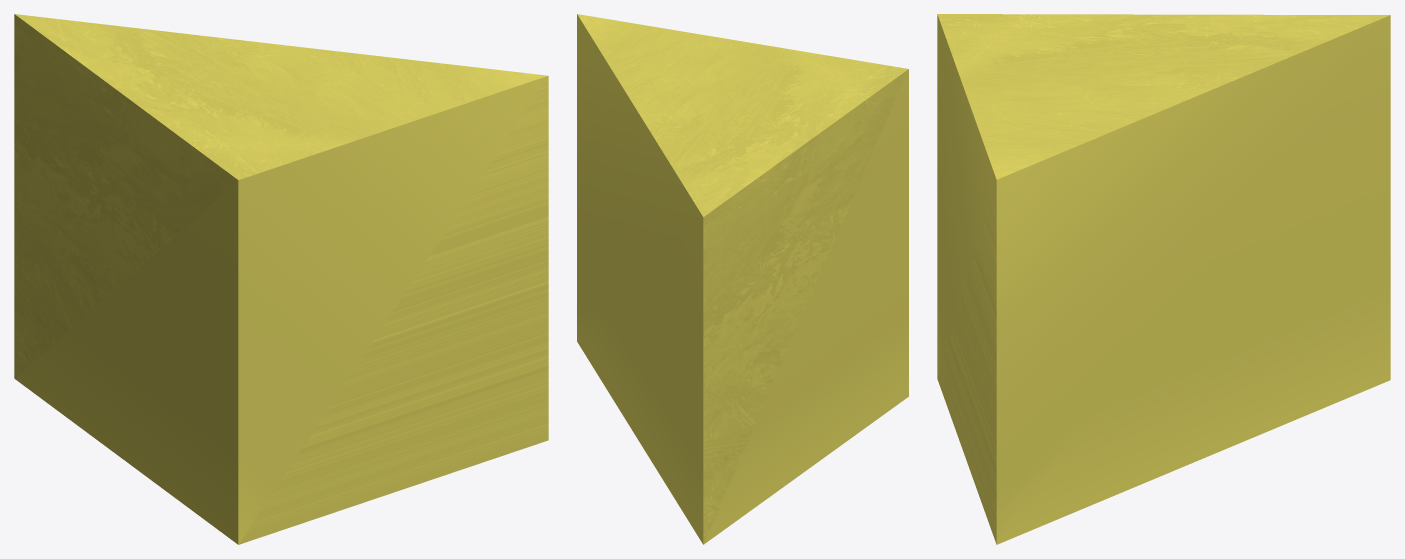
File: jaune6.FBX
The picture shows the model from 3 angles, left to right: view 1: azimuth 30°, elevation 25°; view 2: azimuth 150°, elevation 25°; view 3: azimuth 270°, elevation 25°; orthographic projection. The views are drawn at different scales.
Parts seen in each view (by area): view 1: Ligne030; view 2: Ligne030; view 3: Ligne030.
Part boxes in pixels (x1,y1,x2,y2): Ligne030: [14, 14, 548, 544]; Ligne030: [577, 14, 908, 544]; Ligne030: [937, 14, 1390, 544].
Bounding box in the file's own units: 3.78 × 3.88 × 4.37.
1 material, 1 textured.
